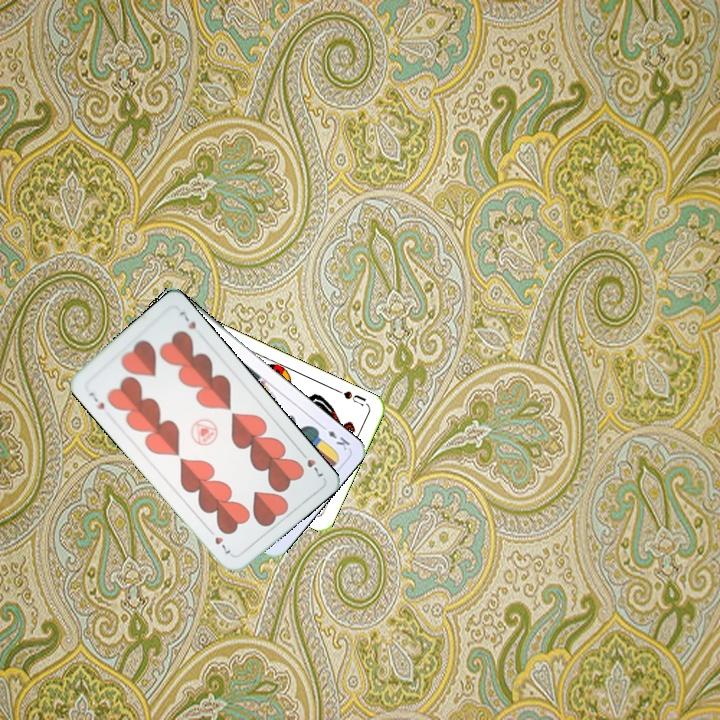EK: (317, 421, 352, 453)
H7: (296, 447, 326, 479), (85, 388, 107, 412)
SU: (332, 385, 369, 408)
